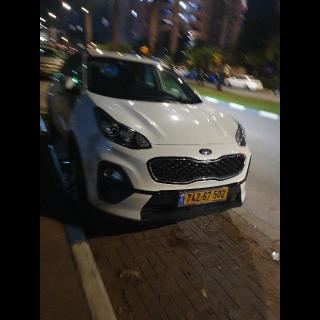LicensePlate: (182, 187, 230, 205)
